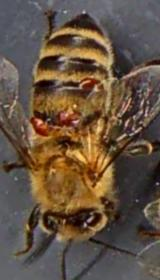varroa_mite: (56, 106, 89, 129), (78, 73, 110, 96), (28, 110, 52, 136)
